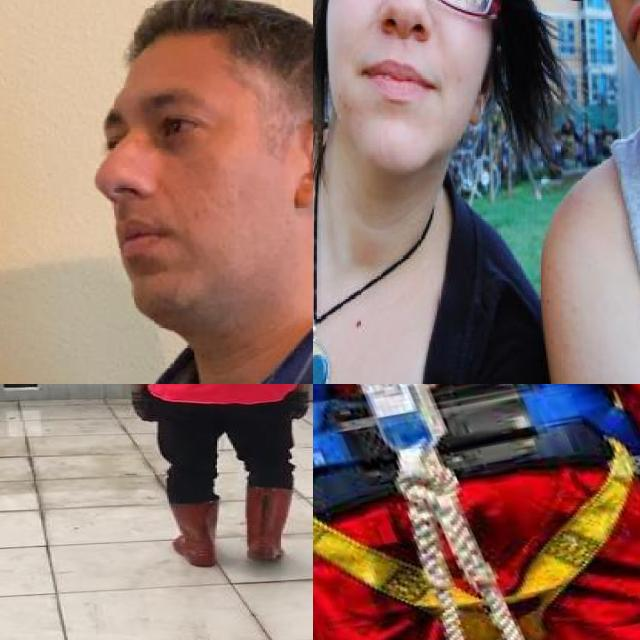Harness: (313, 384, 640, 640)
No_Ear-Protection: (293, 111, 313, 209)
No_Glasses: (95, 80, 228, 158)
boots: (242, 484, 297, 562), (163, 498, 220, 567)
face_nomask: (339, 0, 486, 108)
hand_glove: (130, 392, 153, 424), (292, 393, 310, 420)
person: (313, 0, 507, 384), (520, 0, 640, 384), (104, 384, 313, 582)
